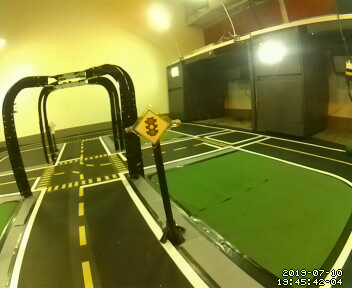Traffic light sign: (133, 108, 168, 145)
